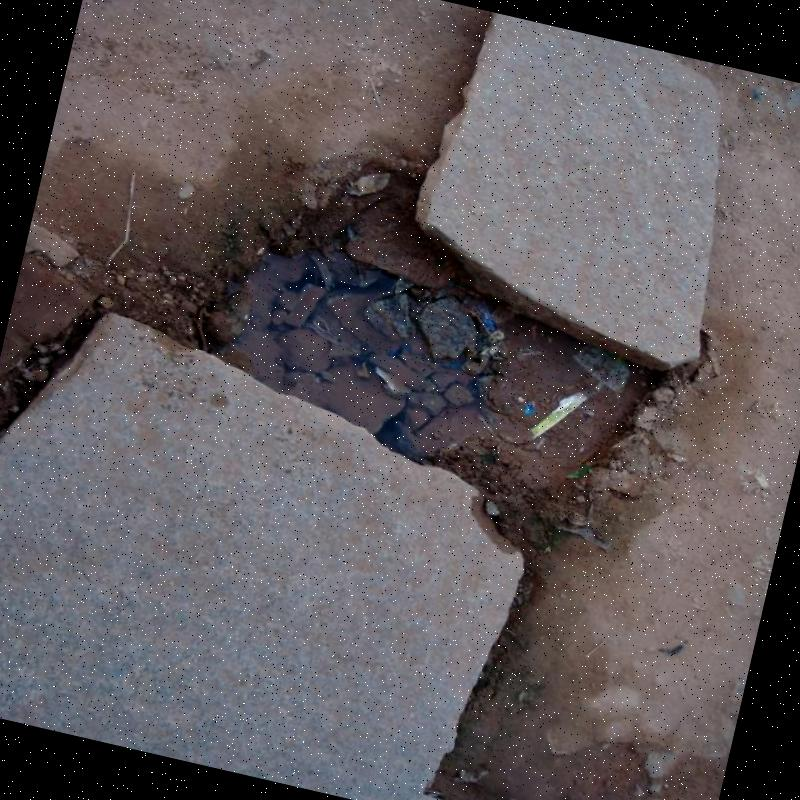Fracture: (51, 123, 558, 496)
